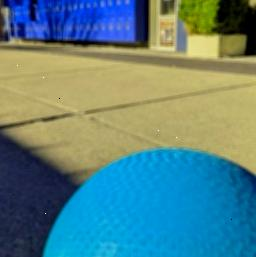algae: (30, 142, 256, 257)
